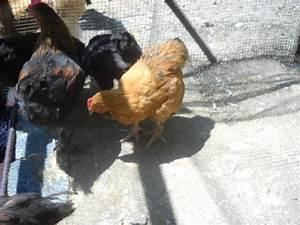hen: (85, 35, 189, 150)
